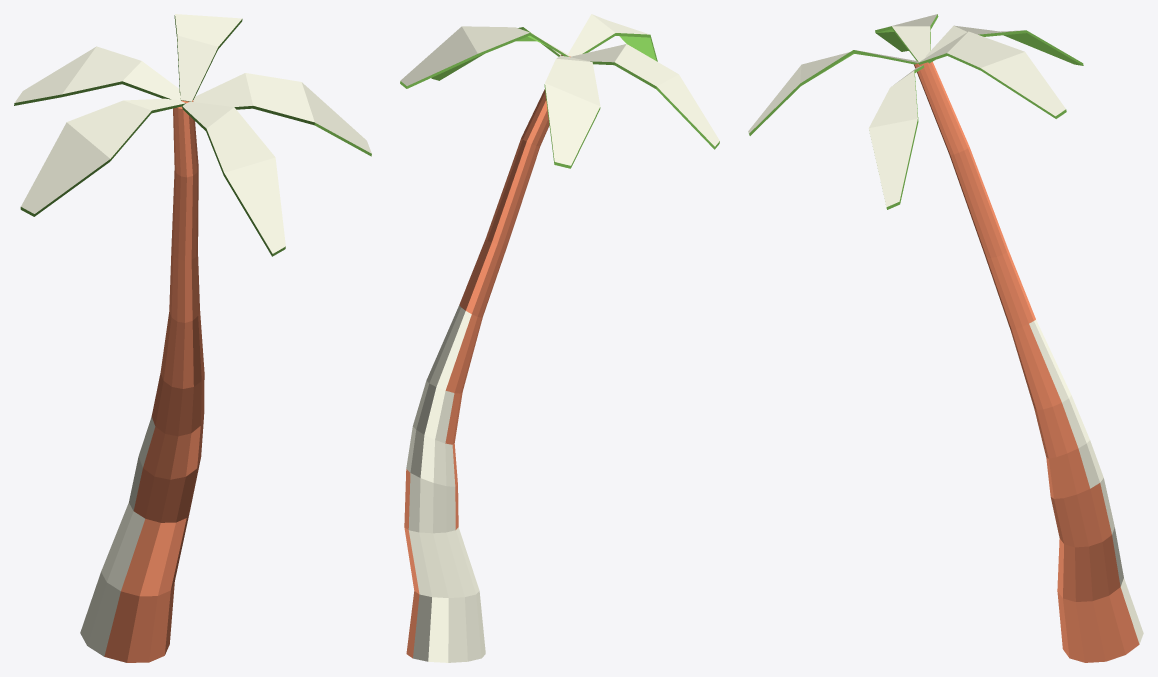
The model's file is Palm2_winter.FBX.
3 renders of one model, left to right at view 1: azimuth 30°, elevation 25°; view 2: azimuth 150°, elevation 25°; view 3: azimuth 270°, elevation 25°, orthographic. The views are drawn at different scales.
Parts seen in each view (by area): view 1: Palm_str.001; view 2: Palm_str.001; view 3: Palm_str.001.
Boxes of the visible parts, x1,y1,x2,y2 form: Palm_str.001: (14,14,371,662); Palm_str.001: (400,14,719,662); Palm_str.001: (748,14,1143,662).
Bounding box in the file's own units: 3.73 × 7.14 × 4.21.
